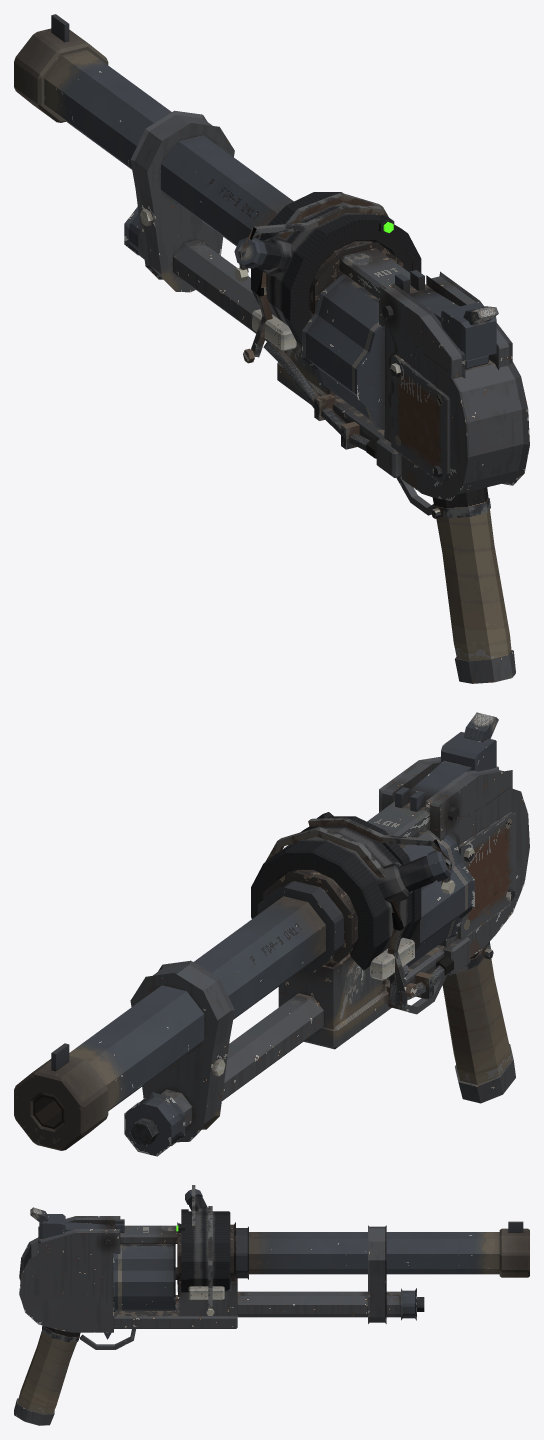
The model's file is foundry_study.glb.
The picture shows the model from 3 angles, top to bottom: view 1: azimuth 30°, elevation 25°; view 2: azimuth 150°, elevation 25°; view 3: azimuth 270°, elevation 25°; orthographic projection. The views are drawn at different scales.
Parts seen in each view (by area): view 1: Body, Carousel, Hammer; view 2: Body, Carousel, Hammer; view 3: Body, Carousel, Hammer.
Boxes of the visible parts, x1,y1,x2,y2 form: Body: [14, 14, 529, 683]; Carousel: [302, 274, 384, 430]; Hammer: [409, 289, 498, 360]; Body: [14, 756, 529, 1156]; Carousel: [388, 830, 474, 980]; Hammer: [410, 712, 498, 803]; Body: [14, 1185, 529, 1425]; Carousel: [113, 1244, 177, 1312]; Hammer: [30, 1207, 112, 1239].
Bounding box in the file's own units: 0.1322 × 0.249 × 0.5473.
Materials: 1 (1 with a texture image).
